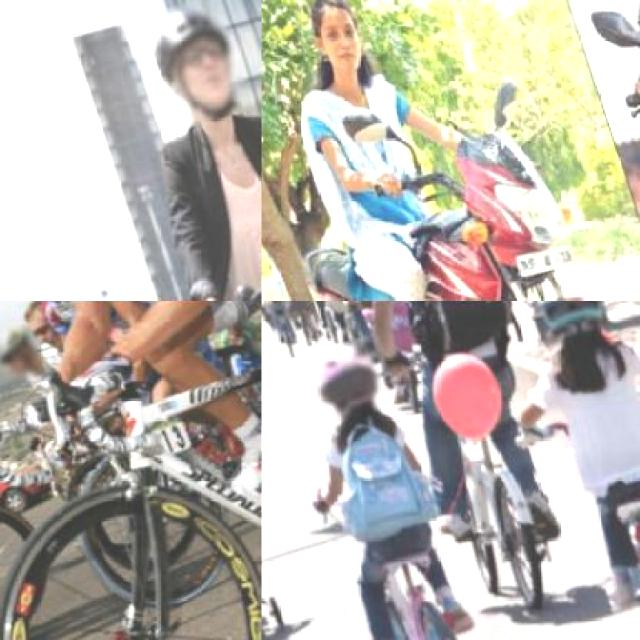With Helmet: (139, 0, 258, 132), (302, 330, 392, 427), (523, 300, 619, 351), (0, 317, 51, 388)
Without Helmet: (289, 0, 382, 89)
